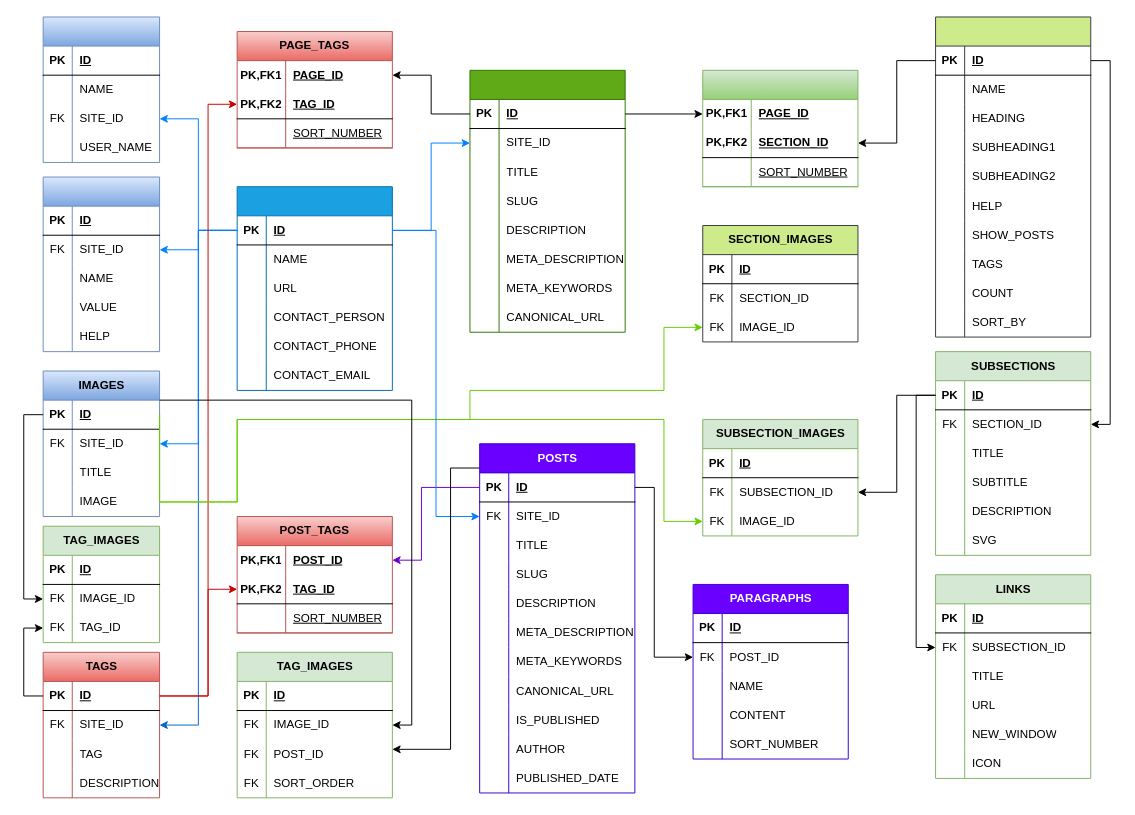
Some shapes in this 1135 by 815 pixel diagram are drawn without their labels. The shapes that lost their labels are listed below. From the top down, each one's box as (x1, y1, x2, y2) in pixels, then its label:
(42, 16, 160, 162): SITE_USERS
(702, 69, 858, 187): PAGE_SECTIONS
(935, 16, 1091, 337): SECTIONS
(469, 69, 625, 332): PAGES
(42, 176, 160, 352): SETTINGS
(236, 186, 392, 390): SITES
